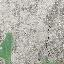Morning glory: (0, 30, 64, 64)
